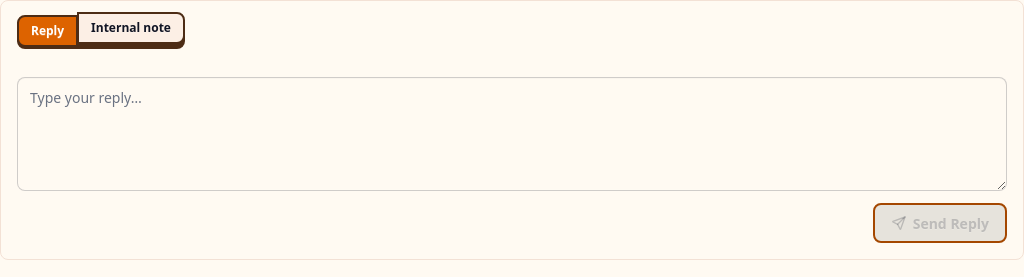
Test case: ThreadComposer › keeps the draft when switching from reply to internal note
In the text box: point(512, 134) [17,77,1007,191], type "Following up on the PA question"
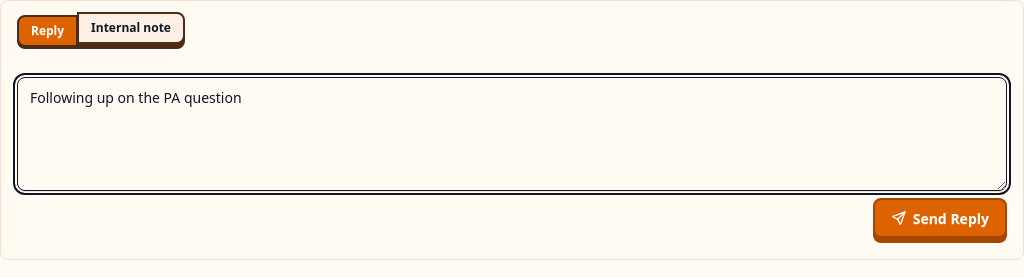
Click the tab "Internal note": point(131, 28) [77,12,185,44]
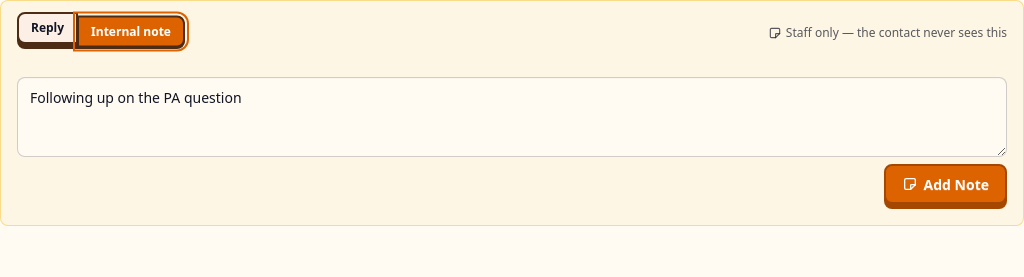
Check: the button "Add Note" is shown, box [884,164,1007,204]
